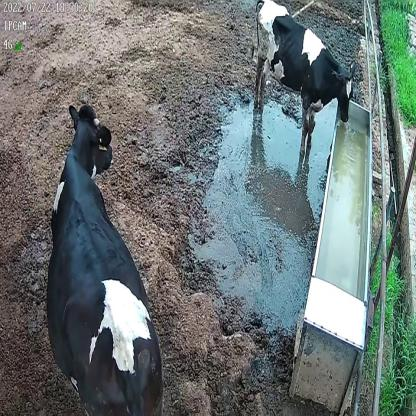cow: (43, 101, 165, 416), (251, 0, 358, 156)
